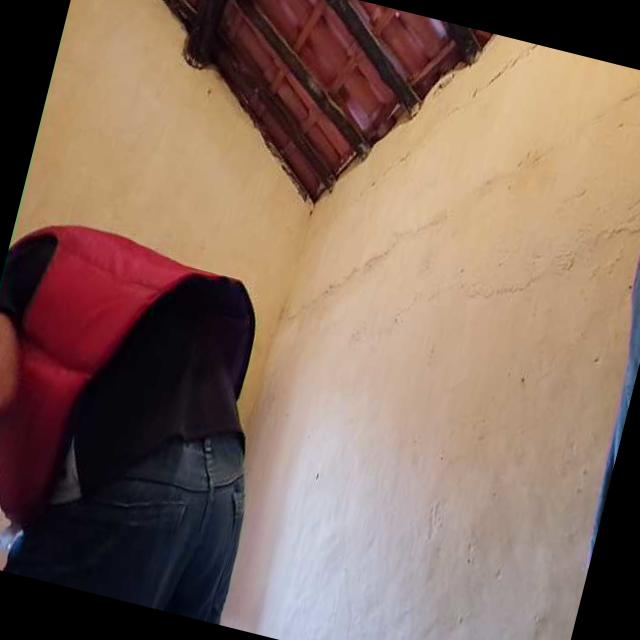colete: (0, 200, 202, 533)
pessoa: (0, 219, 297, 623)
